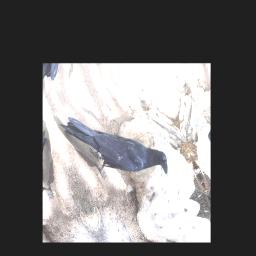Crow: (57, 90, 174, 204)
